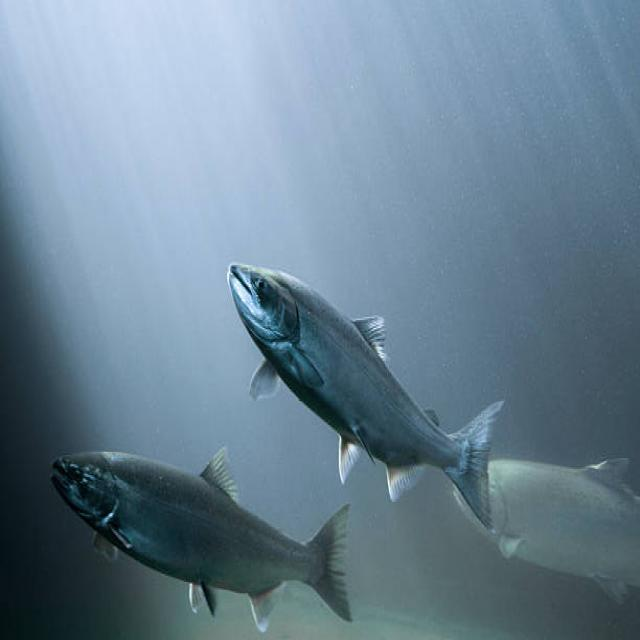salmon: (214, 251, 522, 537), (34, 446, 359, 640)
